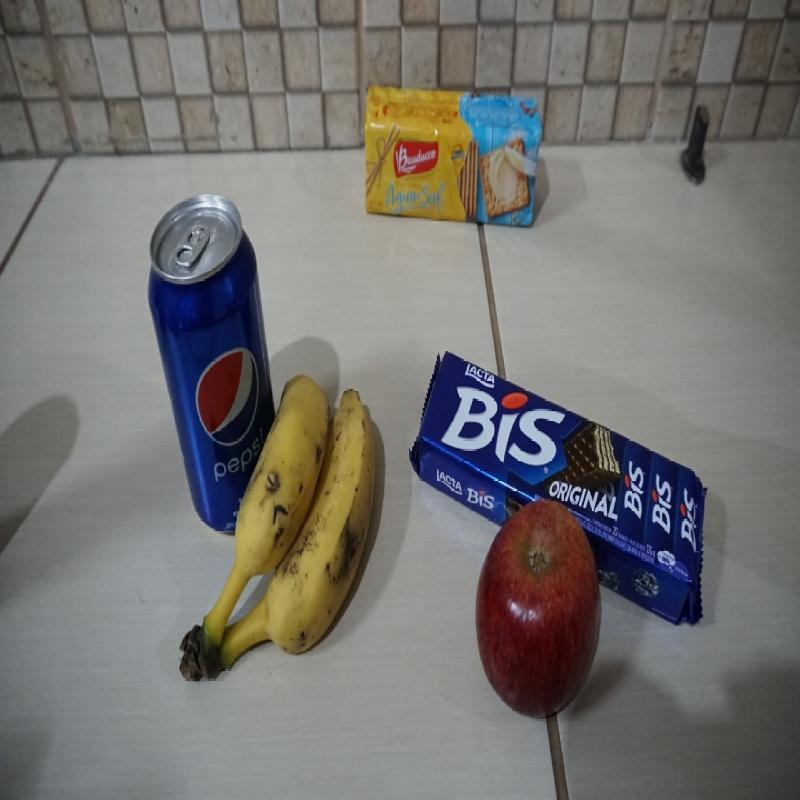Apple: (475, 502, 602, 716)
Banana: (179, 372, 378, 686)
Cracker: (364, 89, 542, 230)
Soda can: (146, 194, 276, 535)
